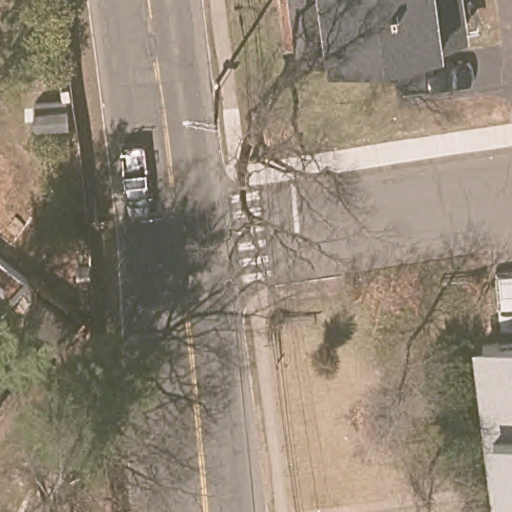DT: (182, 81, 227, 133)
